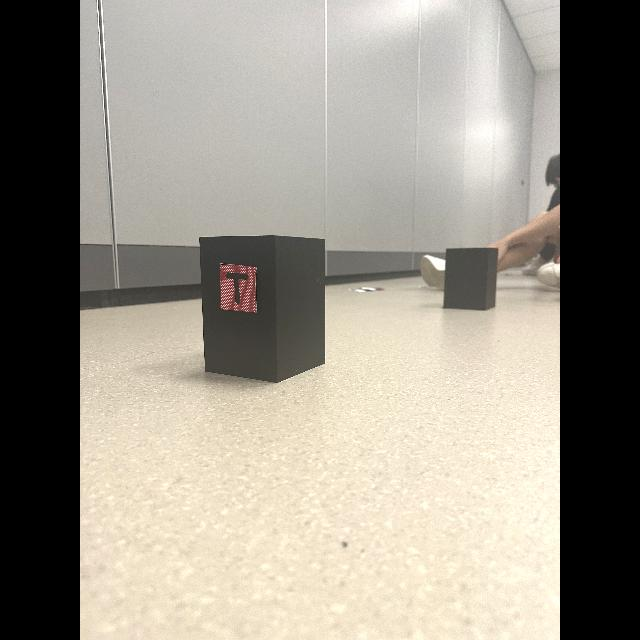T: (226, 272, 249, 304)
